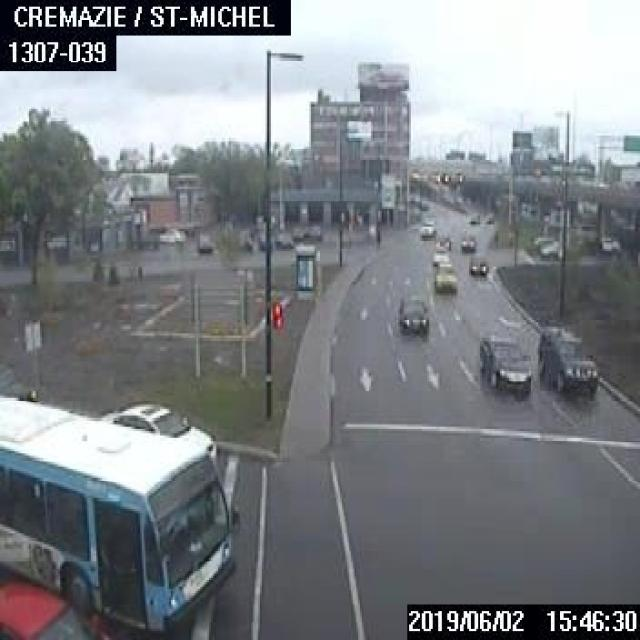bus: (0, 393, 238, 629)
vehicle: (100, 401, 216, 458), (0, 580, 109, 638), (535, 325, 598, 391), (474, 331, 531, 387), (0, 364, 42, 404), (397, 294, 428, 336), (433, 262, 456, 291), (159, 226, 184, 242), (467, 256, 487, 274), (430, 248, 450, 264), (434, 232, 452, 249), (539, 243, 560, 257), (419, 217, 435, 235), (459, 234, 475, 251), (196, 234, 212, 251), (274, 232, 291, 246), (469, 212, 479, 222), (484, 213, 493, 223)
